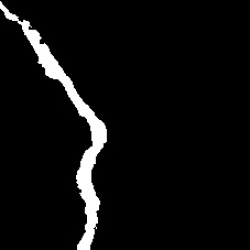crack: (0, 0, 108, 249)
